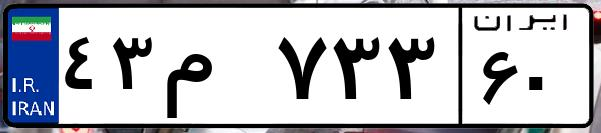0: (525, 38, 570, 115)
3: (385, 28, 445, 110), (330, 28, 385, 110), (110, 28, 158, 98)
4: (57, 26, 110, 100)
6: (475, 38, 525, 113)
7: (270, 28, 330, 110)
م: (158, 20, 270, 120)
